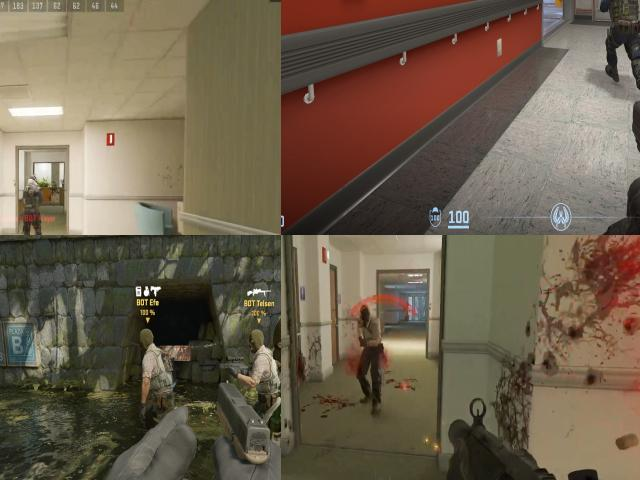Bomb: (157, 350, 174, 376)
CT: (608, 0, 637, 85), (22, 176, 41, 218)
CT-Head: (26, 174, 38, 193)
T: (132, 324, 179, 442), (241, 320, 280, 446), (360, 305, 384, 354)
T-Head: (133, 326, 157, 352), (246, 327, 267, 356), (359, 306, 373, 327)
